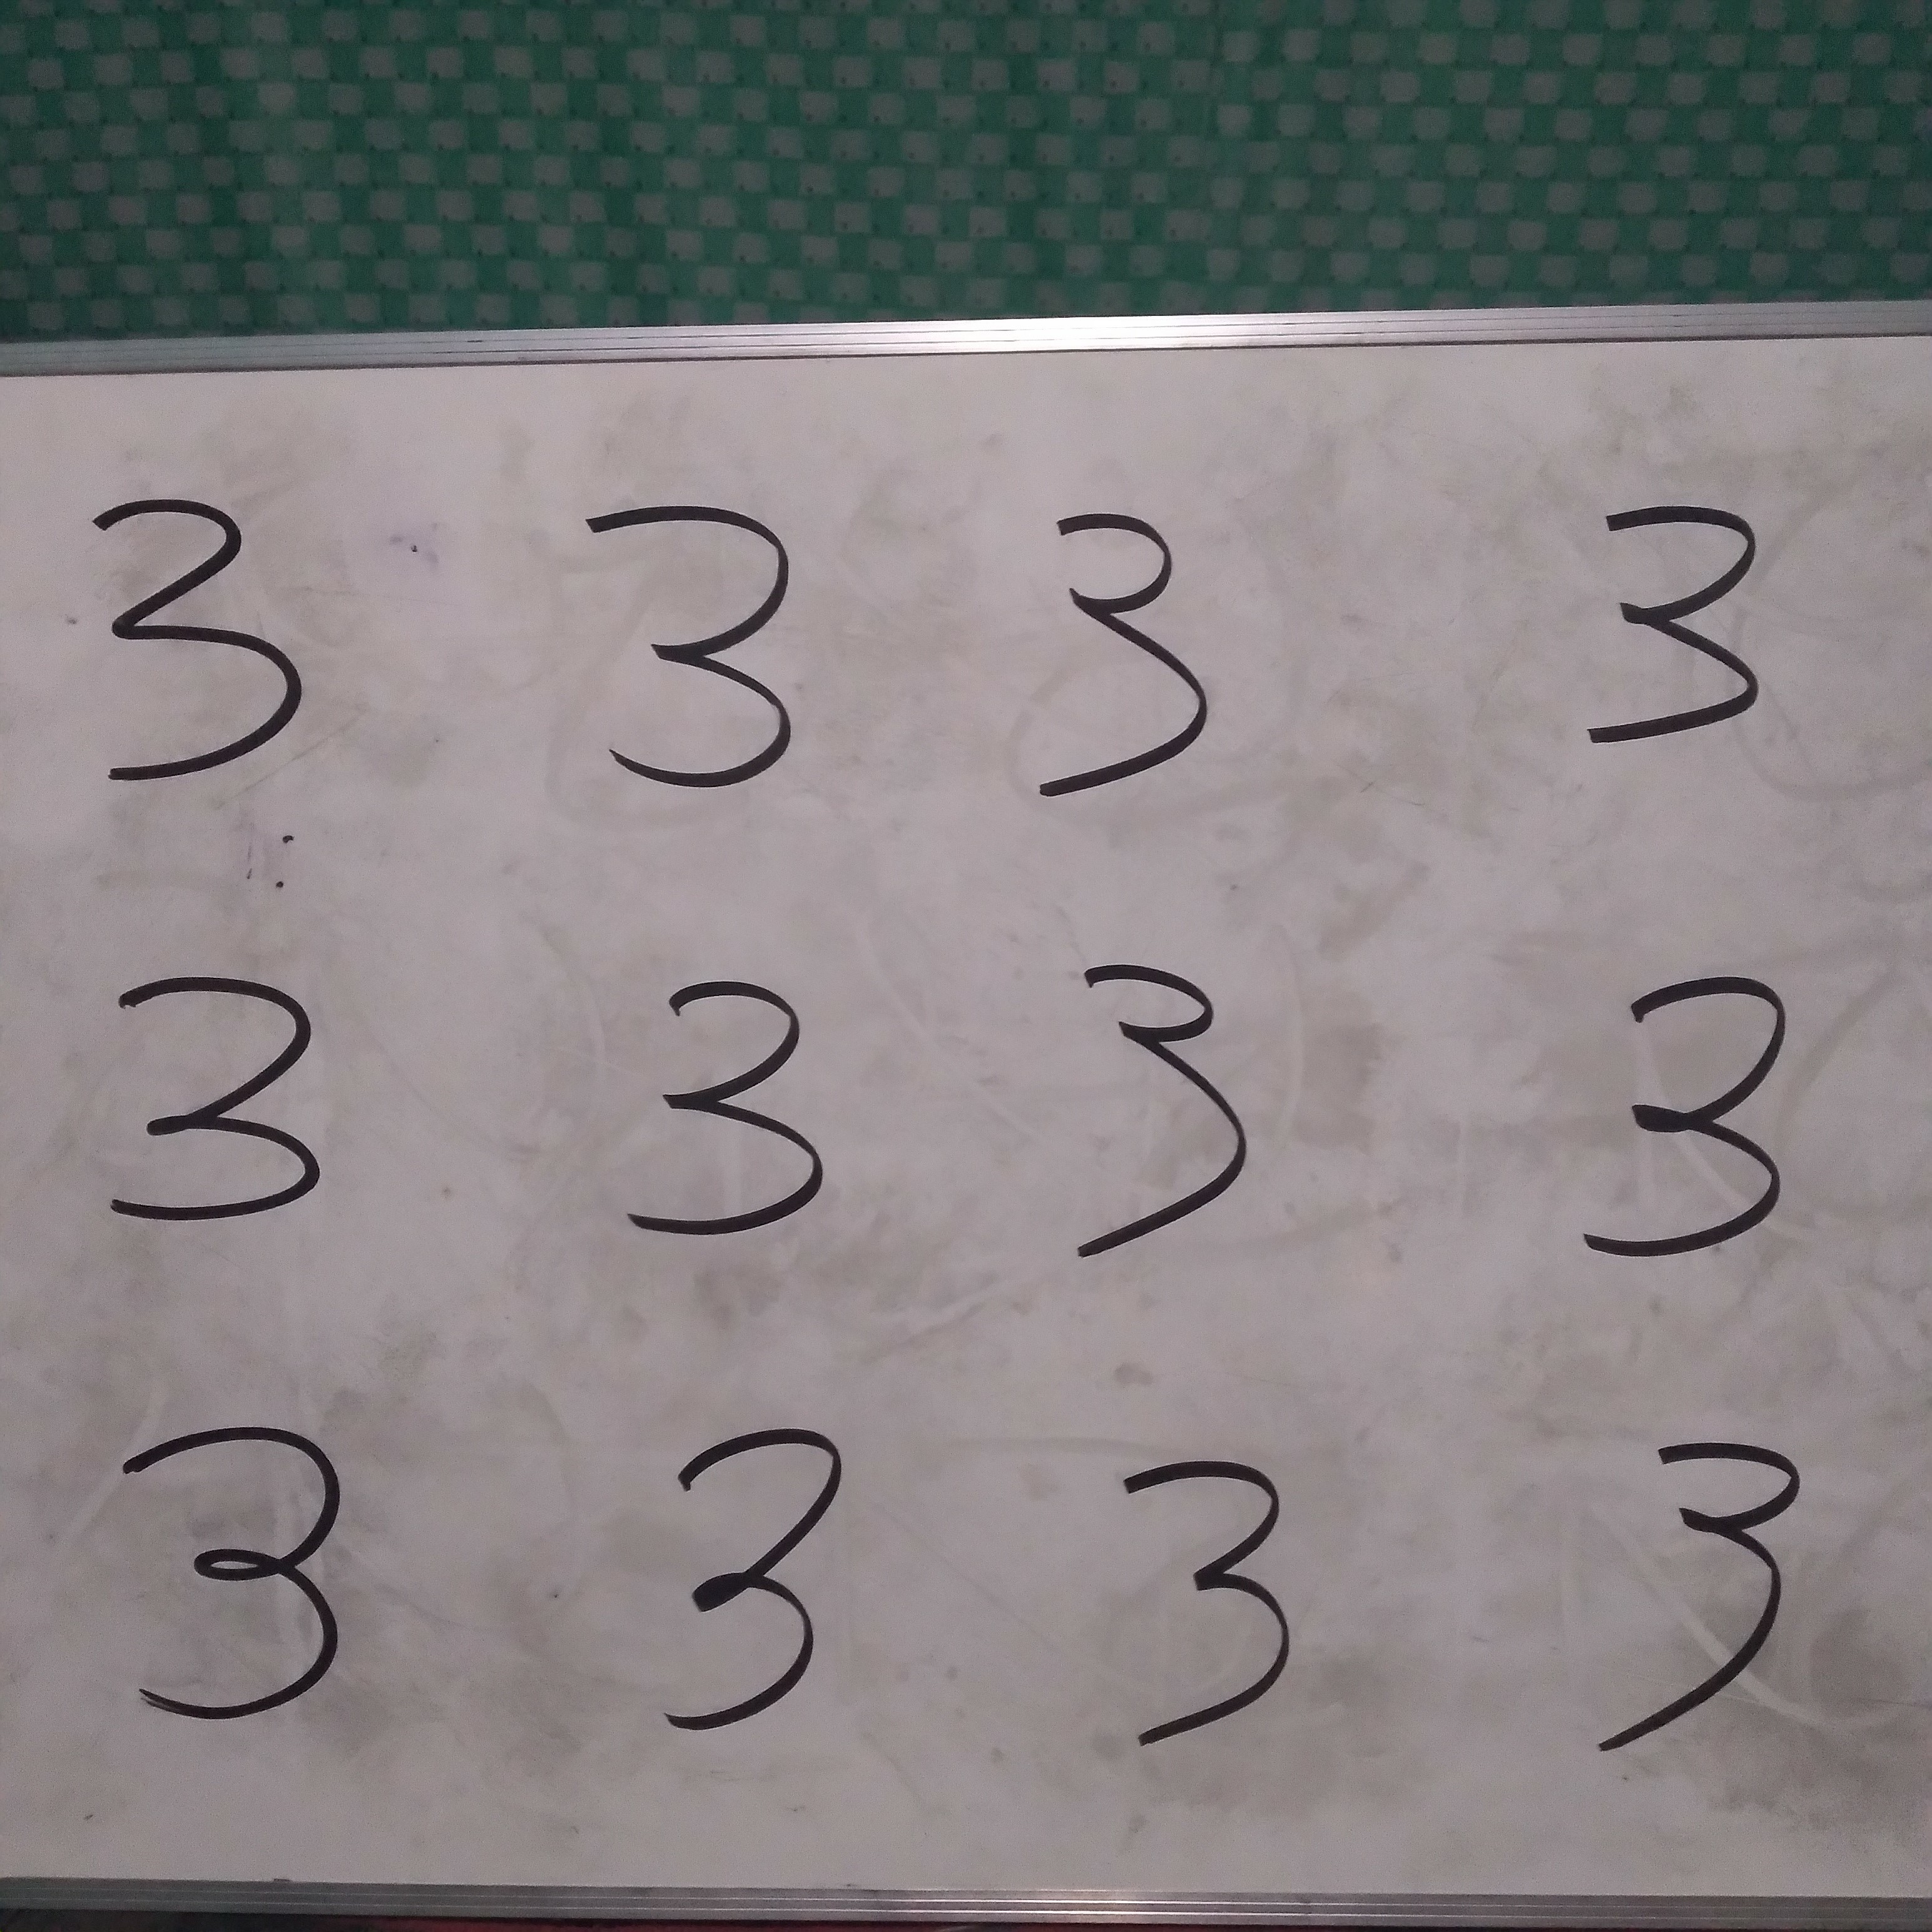num3: (556, 475, 825, 835), (962, 479, 1231, 838), (1526, 454, 1794, 813), (1045, 929, 1314, 1288), (88, 947, 357, 1306), (103, 1383, 372, 1742), (621, 1404, 889, 1763), (1067, 1417, 1336, 1776), (1577, 1420, 1845, 1779), (1555, 940, 1824, 1299), (79, 471, 347, 830), (592, 940, 860, 1299)
